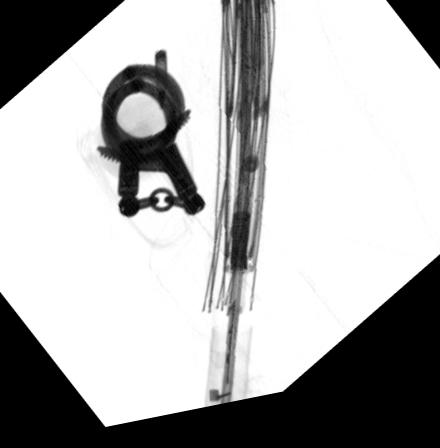Bullet: (153, 56, 165, 114)
HandCuffs: (95, 68, 204, 224)
